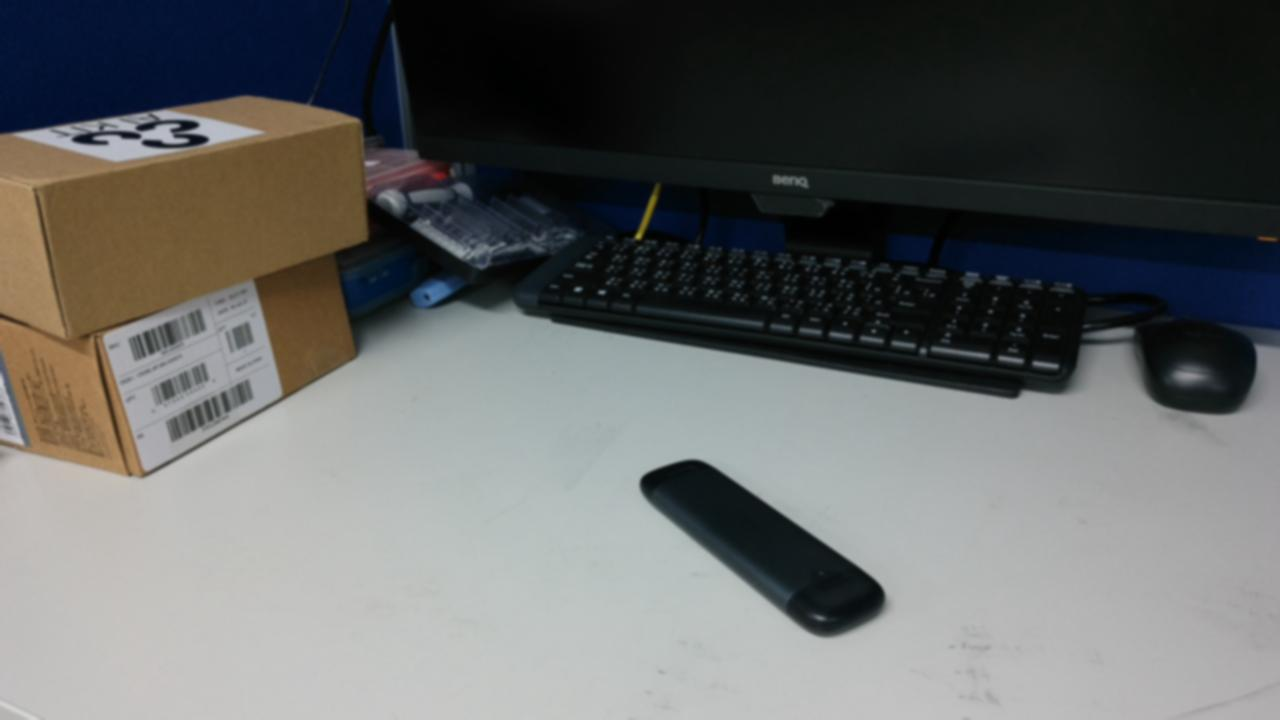blade: (948, 476, 1159, 581), (798, 530, 985, 602)
